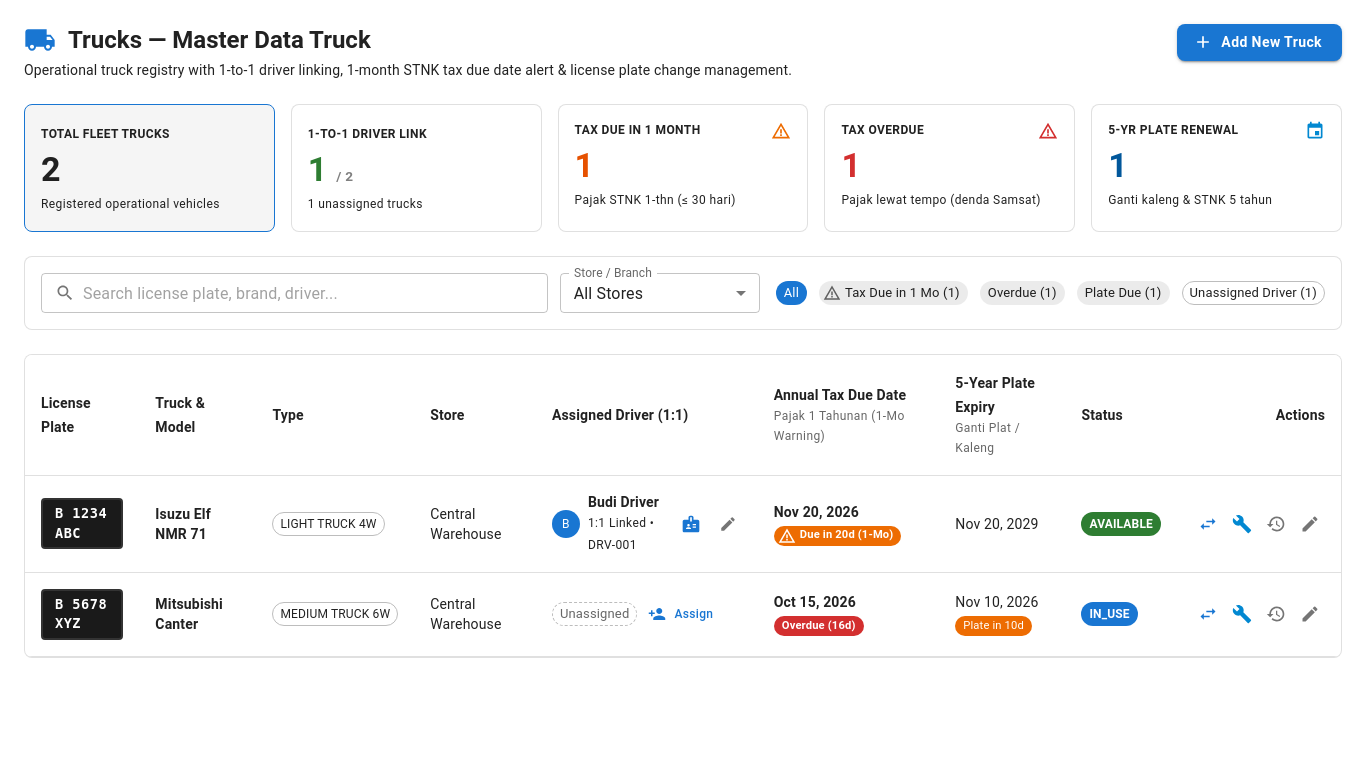
Scenario: TruckListPage - Master Data Truck › opens Change License Plate dialog with current plate loaded
# Click change plate icon on first truck
Click the button named "Change License Plate" in the row of "B 1234 ABC" at [1208, 524], box [1193,509,1223,539]
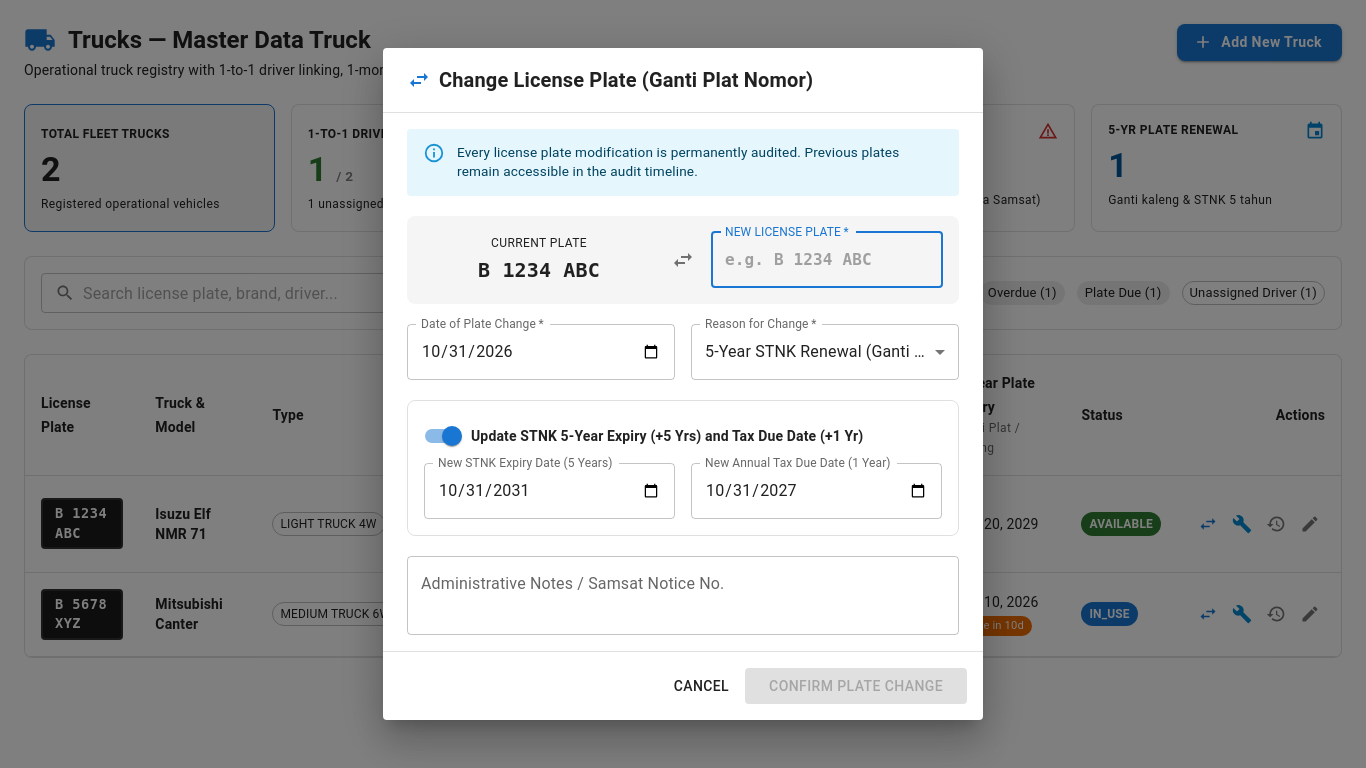
Result: the heading "Change License Plate (Ganti Plat Nomor)" is shown at [407,68,813,92]
Result: the text "CURRENT PLATE" is shown at [491,236,587,250]
